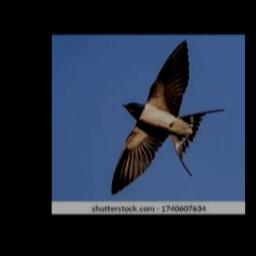Swallow: (111, 39, 225, 196)
